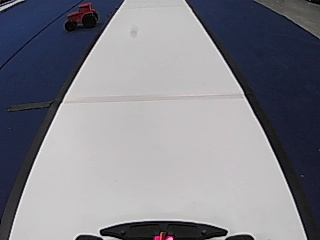Tracktor: (60, 0, 103, 35)
